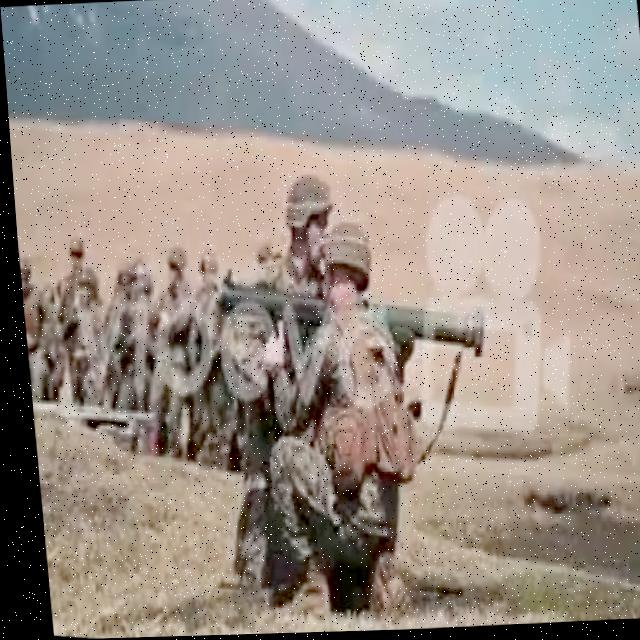rocket: (205, 266, 483, 366)
